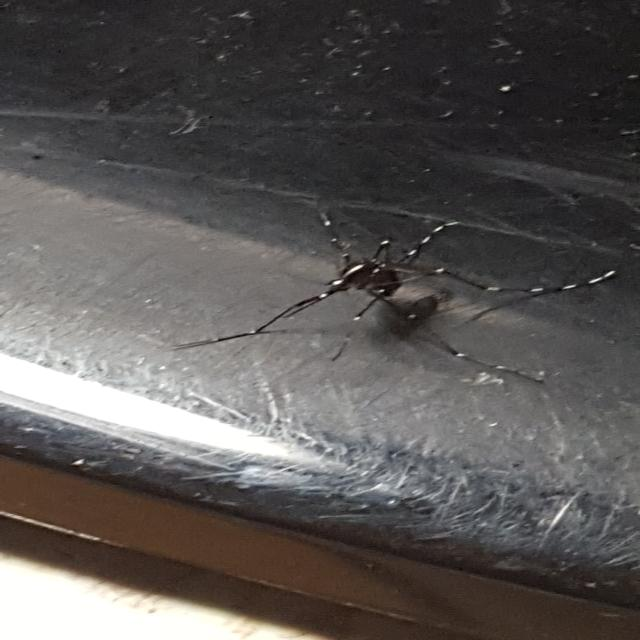albopictus: (170, 200, 620, 394)
